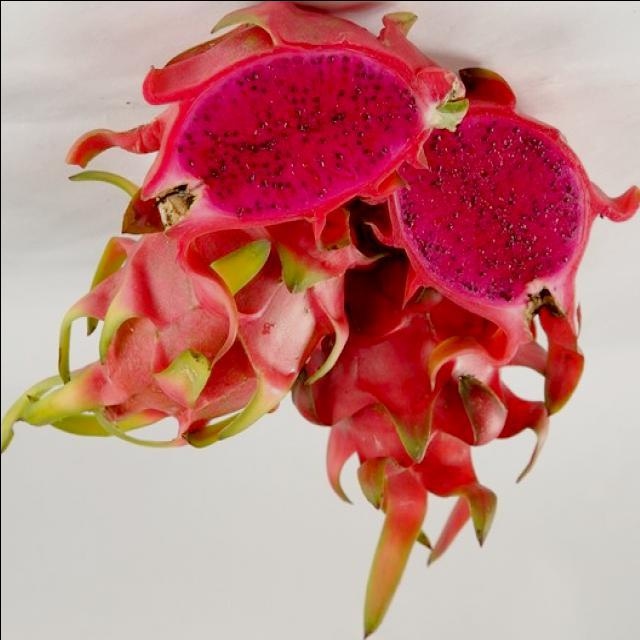do: (1, 217, 371, 468), (338, 256, 565, 639), (132, 2, 454, 243), (382, 106, 631, 320)
